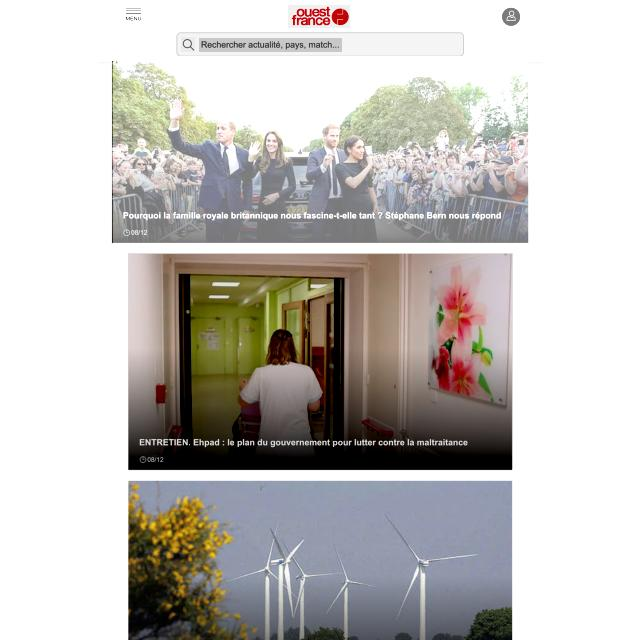CheckedTextView: (176, 31, 465, 56)
bag: (98, 0, 542, 62)
card: (113, 59, 529, 244)
carousel: (501, 6, 520, 26), (181, 37, 195, 52)
copy: (128, 253, 513, 469)
date picker: (288, 5, 350, 28)
decoration: (124, 4, 144, 24)
footer: (199, 38, 342, 52)
